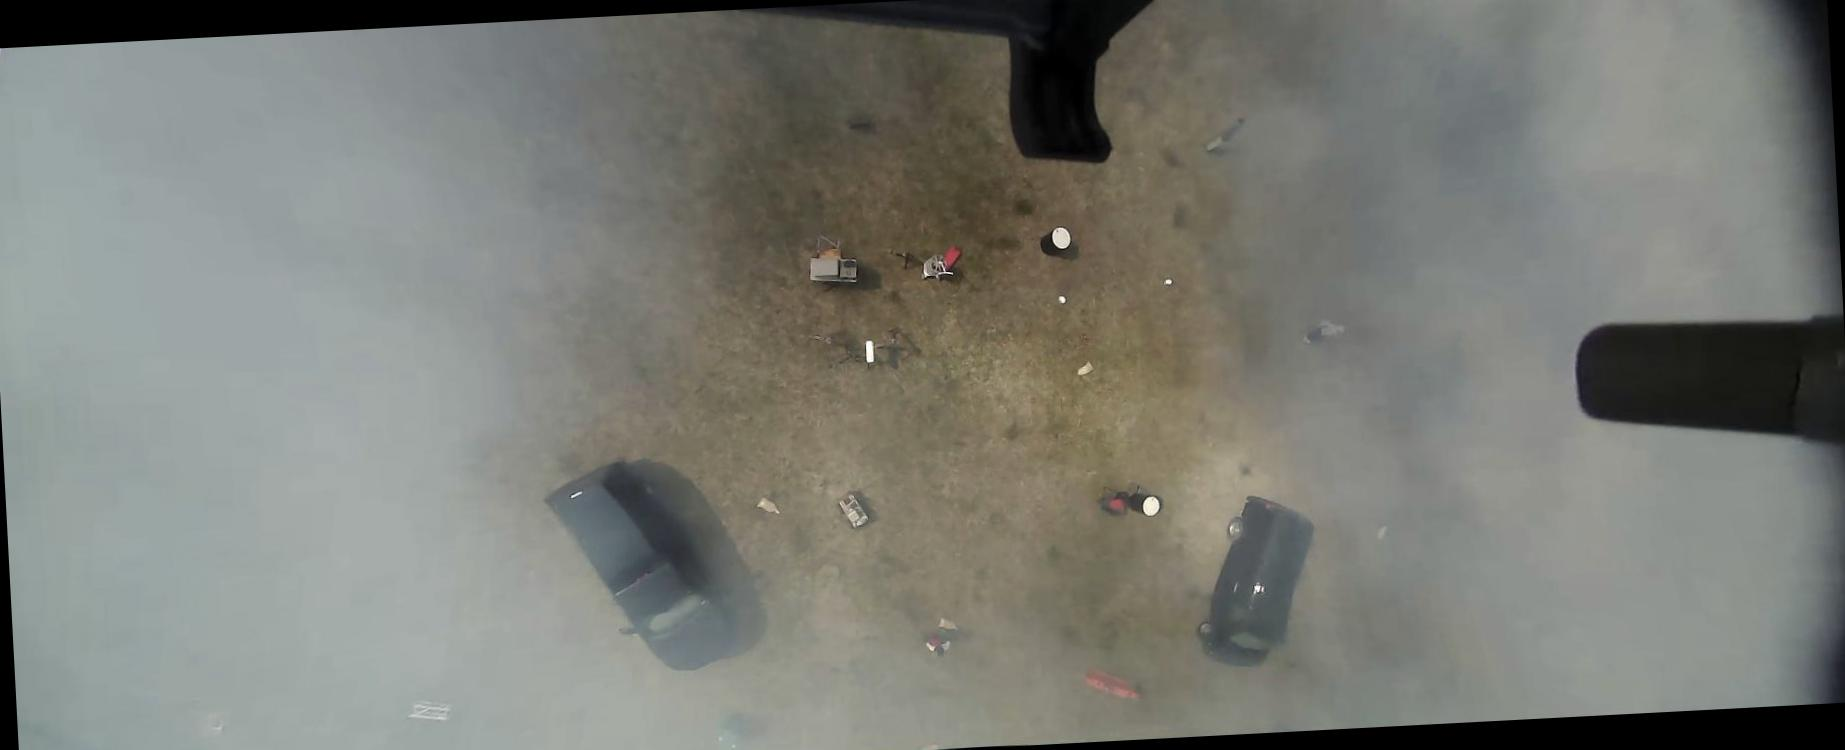vehicle: (540, 454, 735, 676), (1189, 492, 1322, 671)
